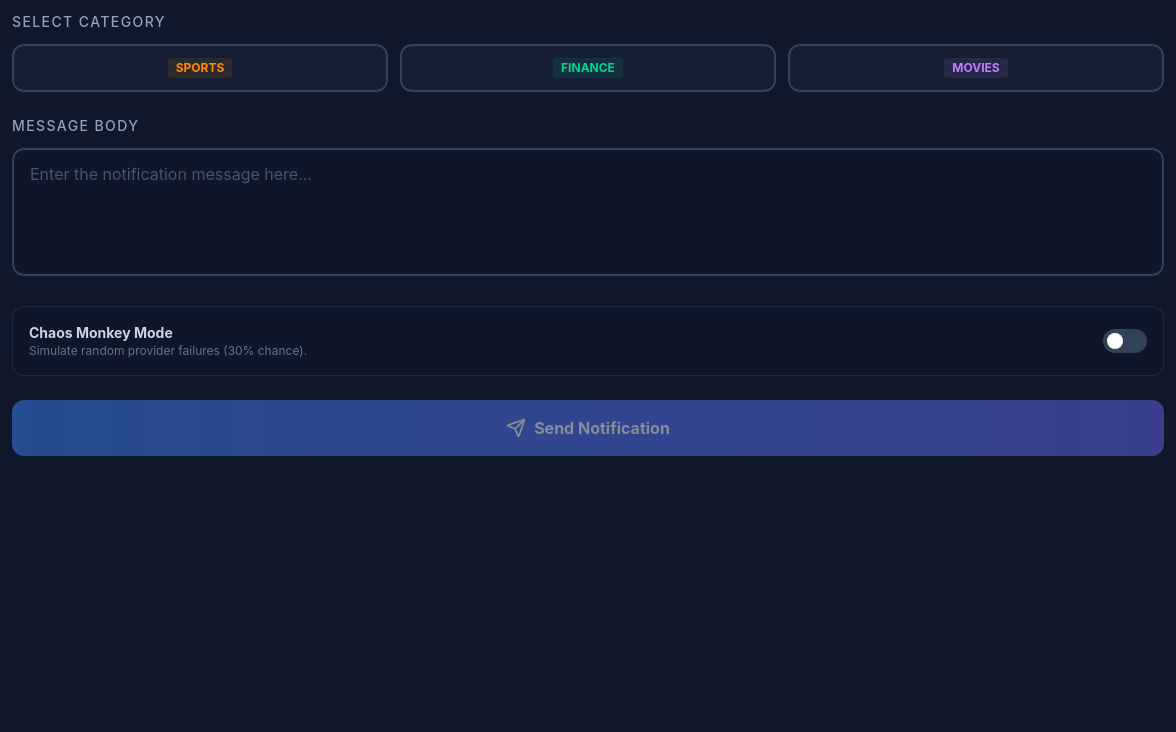
NotificationForm › submits form when all fields are filled
The width and height of the screenshot is (1176, 732).
Expected: the text "Sports" is shown, [168,58,232,78]
# Select category
Click the button "Sports".
click(200, 68)  # box [12,44,388,92]
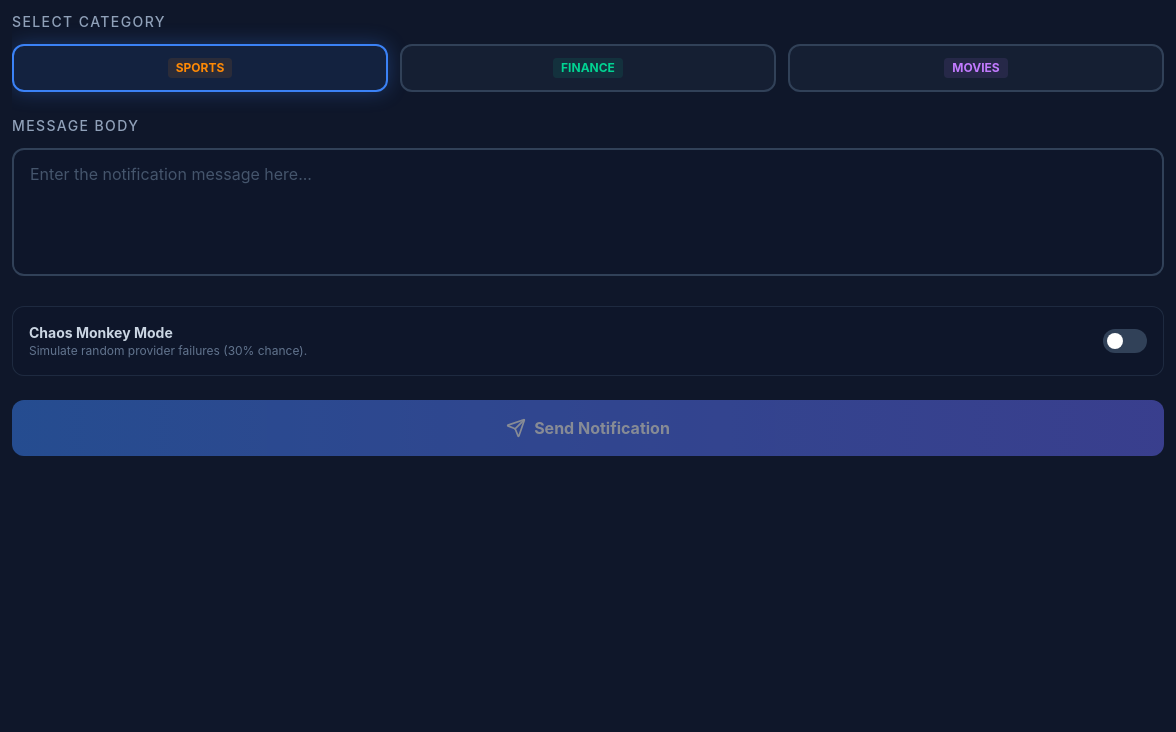
# Type message
Type "Test Message" into the text box with placeholder "Enter the notification message here...".
click(588, 212); type("Test Message")  # box [12,148,1164,276]
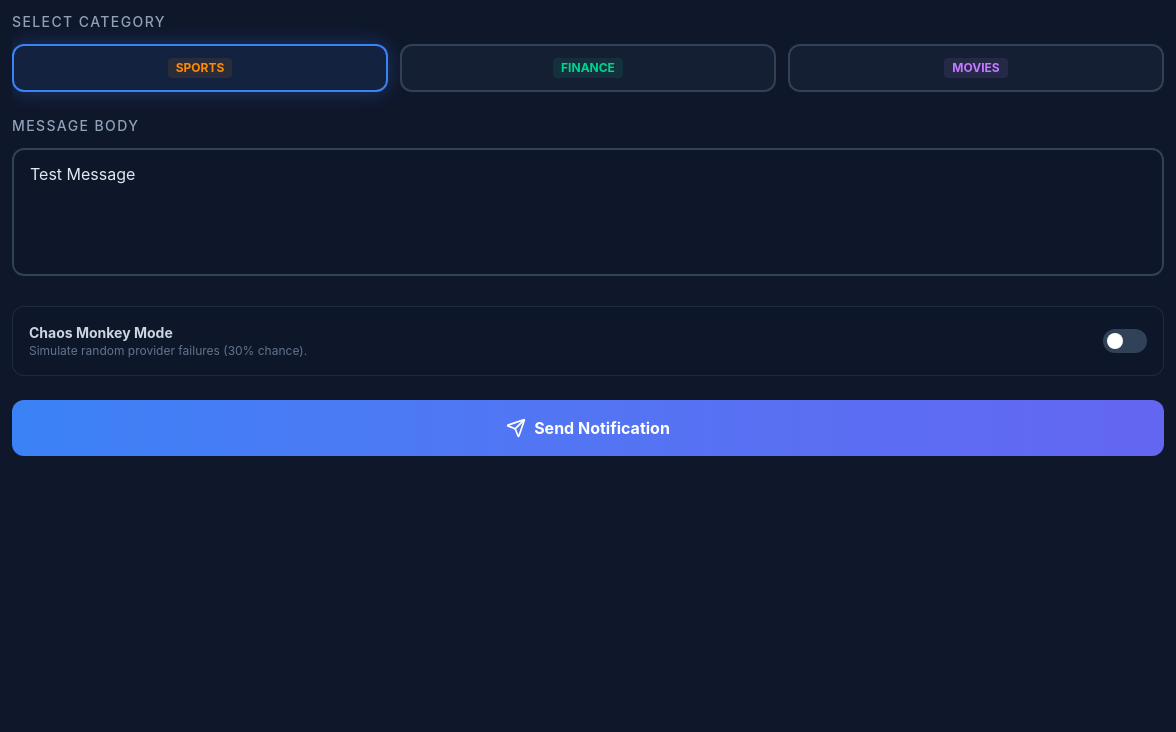
Click the button "Send Notification".
click(588, 428)  # box [12,400,1164,456]
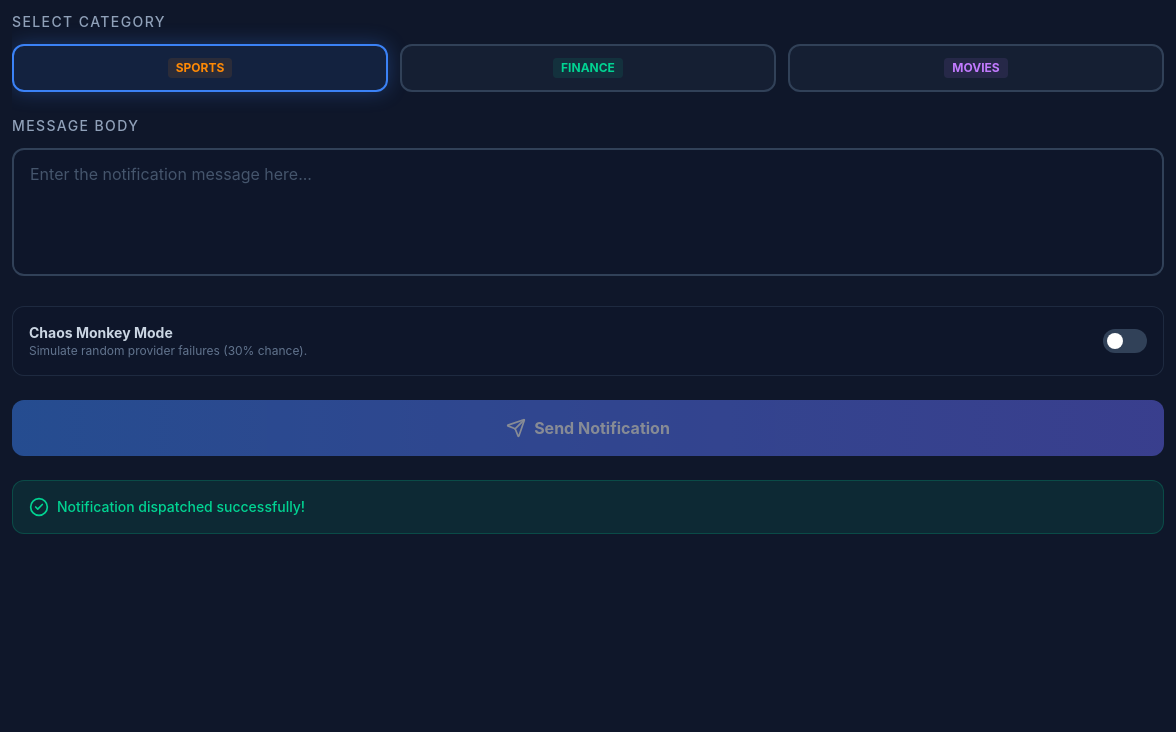
Expected: the text "Notification dispatched successfully!" is shown, [57,497,305,517]
